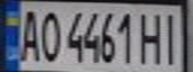1: (115, 8, 139, 64)
4: (63, 7, 84, 63), (81, 7, 100, 63)
6: (100, 8, 121, 63)
A: (15, 6, 42, 63)
H: (136, 8, 166, 65)
I: (157, 8, 187, 64)
O: (36, 7, 63, 63)
